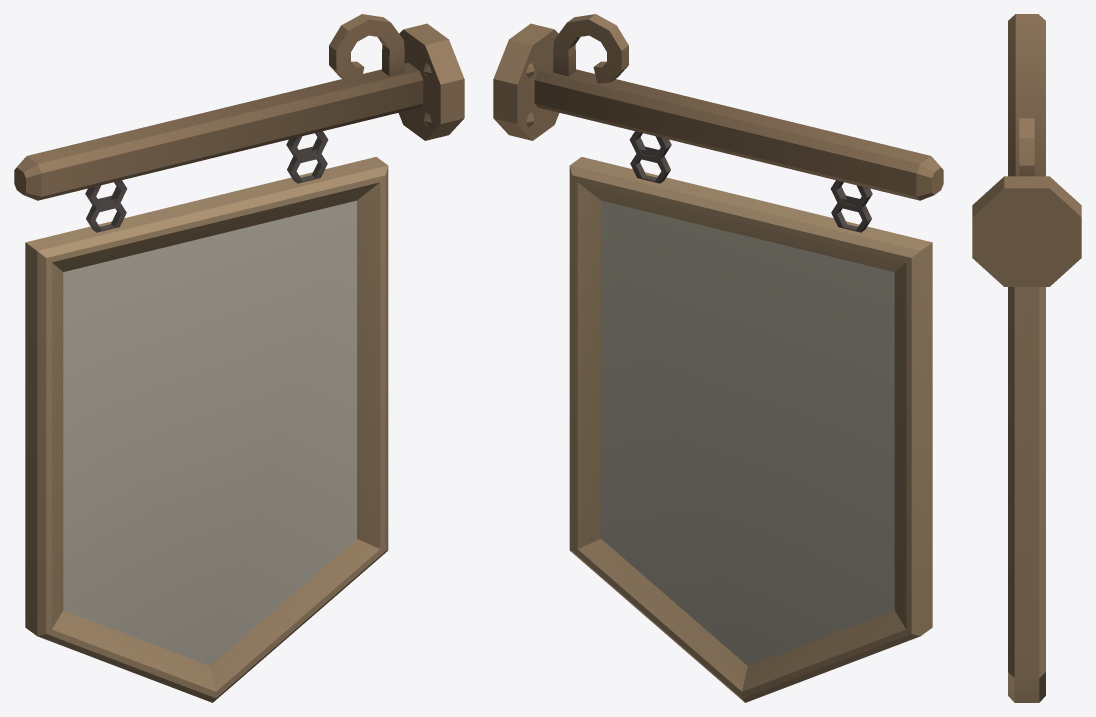
The model's file is signboard.glb.
The picture shows the model from 3 angles, left to right: view 1: azimuth 30°, elevation 25°; view 2: azimuth 150°, elevation 25°; view 3: azimuth 270°, elevation 25°; orthographic projection. The views are drawn at different scales.
Parts seen in each view (by area): view 1: signboard.001; view 2: signboard.001; view 3: signboard.001.
Boxes of the visible parts, x1=… form: signboard.001: x1=14, y1=14, x2=464, y2=702; signboard.001: x1=493, y1=14, x2=943, y2=702; signboard.001: x1=972, y1=14, x2=1081, y2=702.
Size of the model in its own units: 1.31 by 1.93 by 0.2864.
